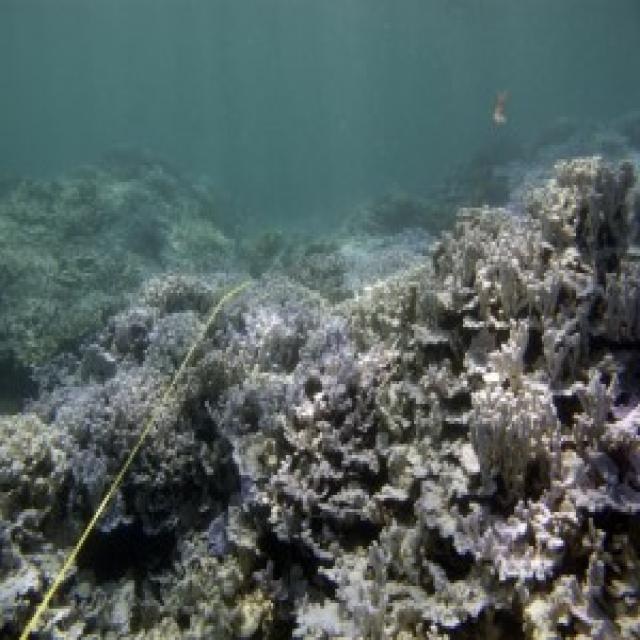Bleached: (1, 132, 640, 640)
